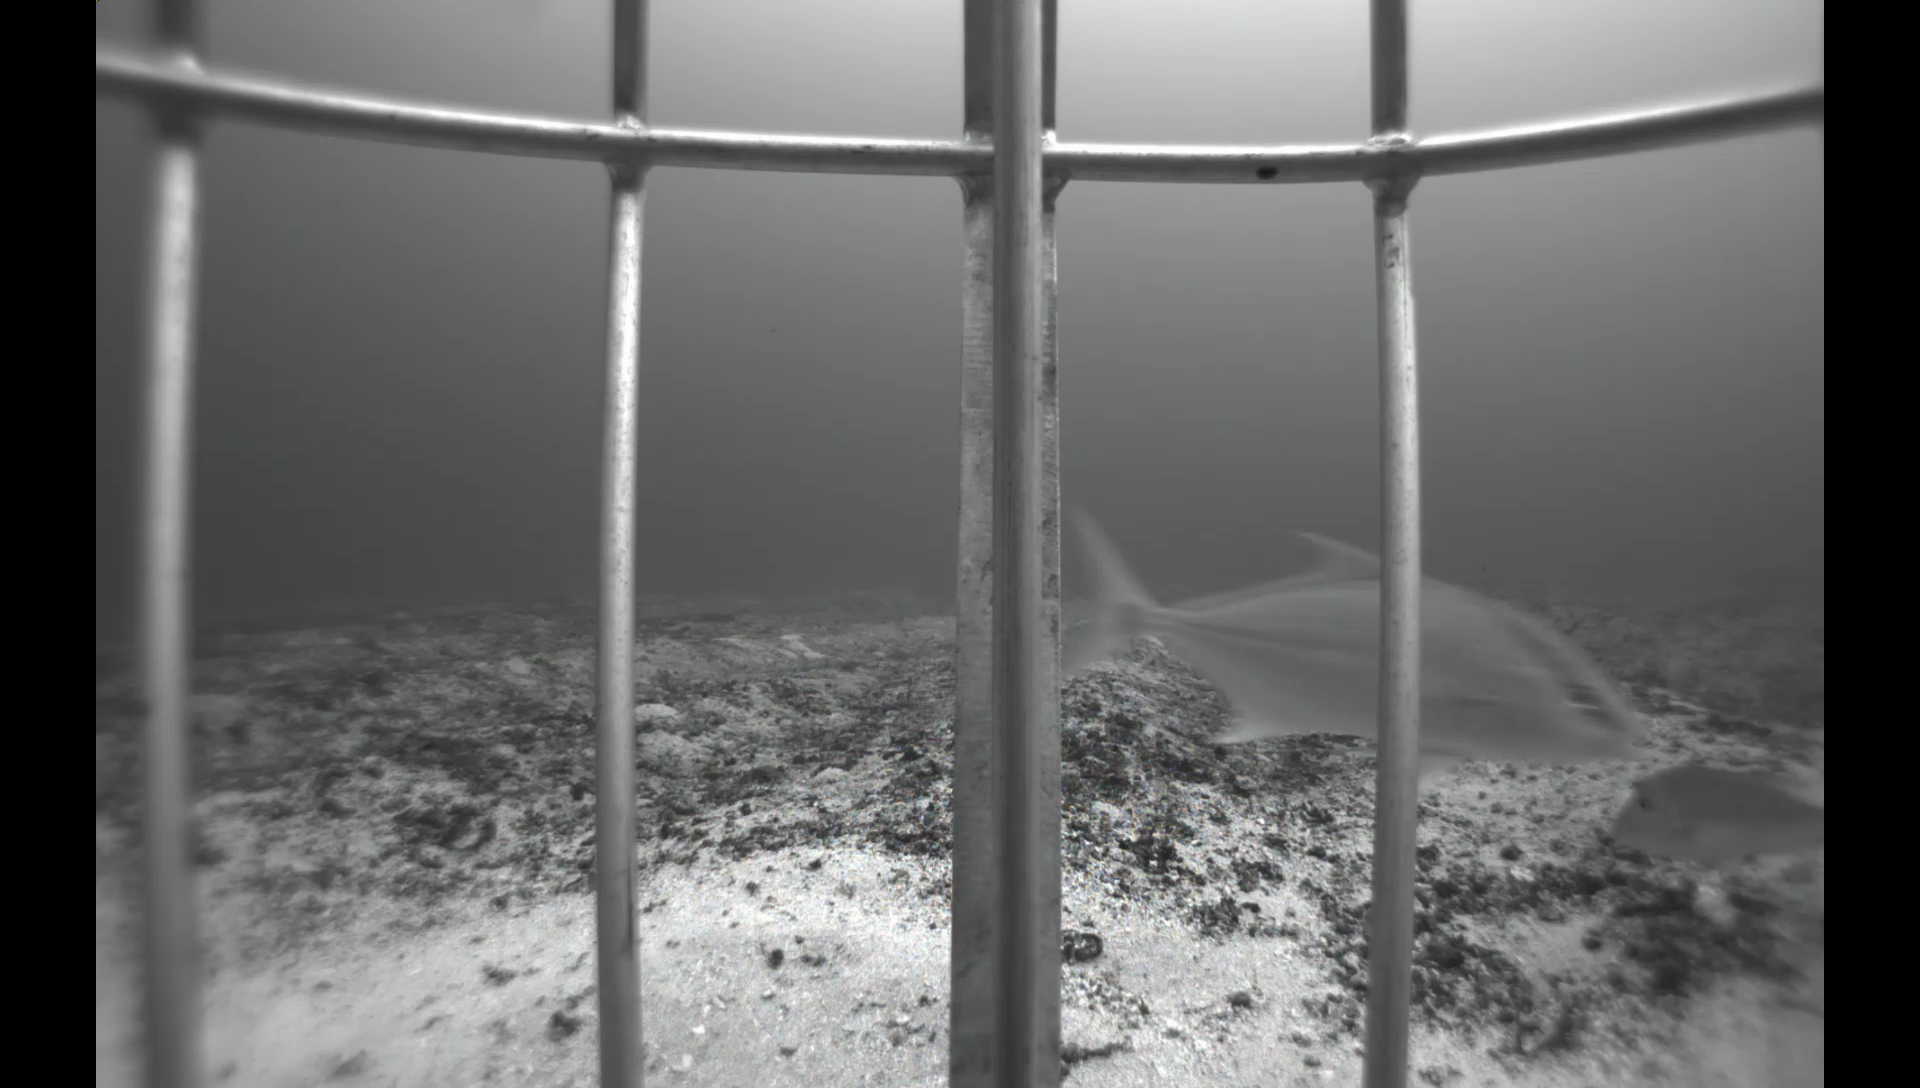CALAMUSPRORIDENS-170210605: (1600, 742, 1826, 874)
SERIOLARIVOLIANA-170113105: (1056, 481, 1668, 799)
